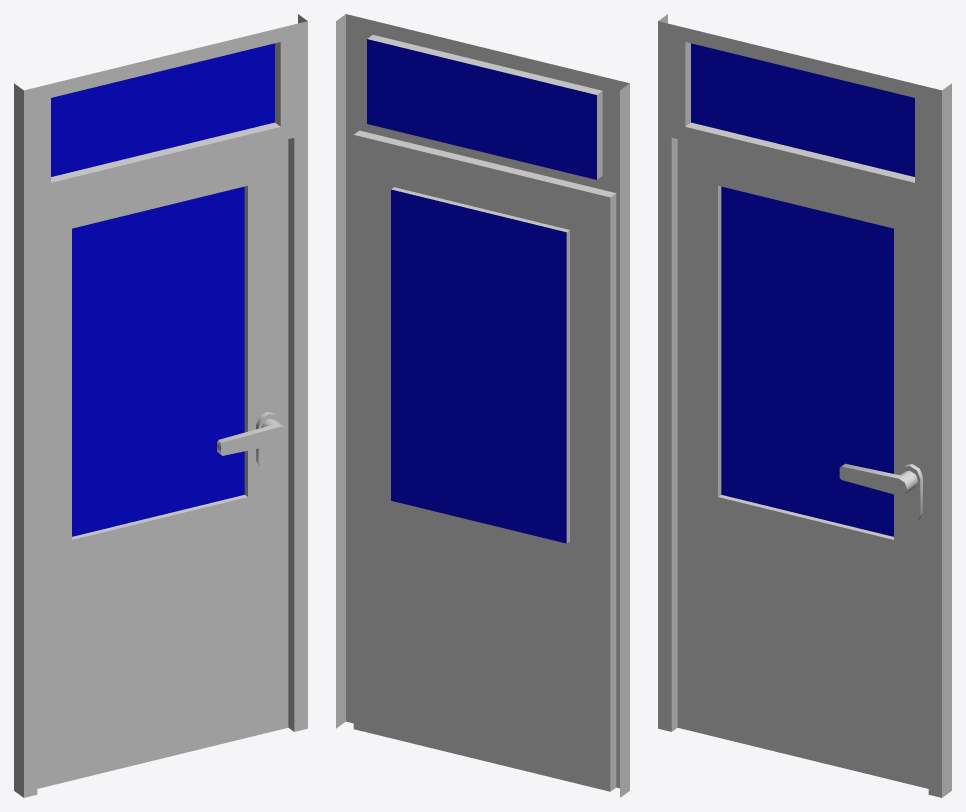
The model's file is FakeDoorSmall.fbx.
3 views of the same model, side by side, from view 1: azimuth 30°, elevation 25°; view 2: azimuth 150°, elevation 25°; view 3: azimuth 330°, elevation 25° (orthographic).
Parts seen in each view (by area): view 1: Cube.051; view 2: Cube.051; view 3: Cube.051.
Part boxes in pixels (x1,y1,x2,y2): Cube.051: [14, 14, 307, 797]; Cube.051: [336, 14, 629, 797]; Cube.051: [658, 14, 951, 797].
Bounding box in the file's own units: 1.05 × 2.5 × 0.1125.
